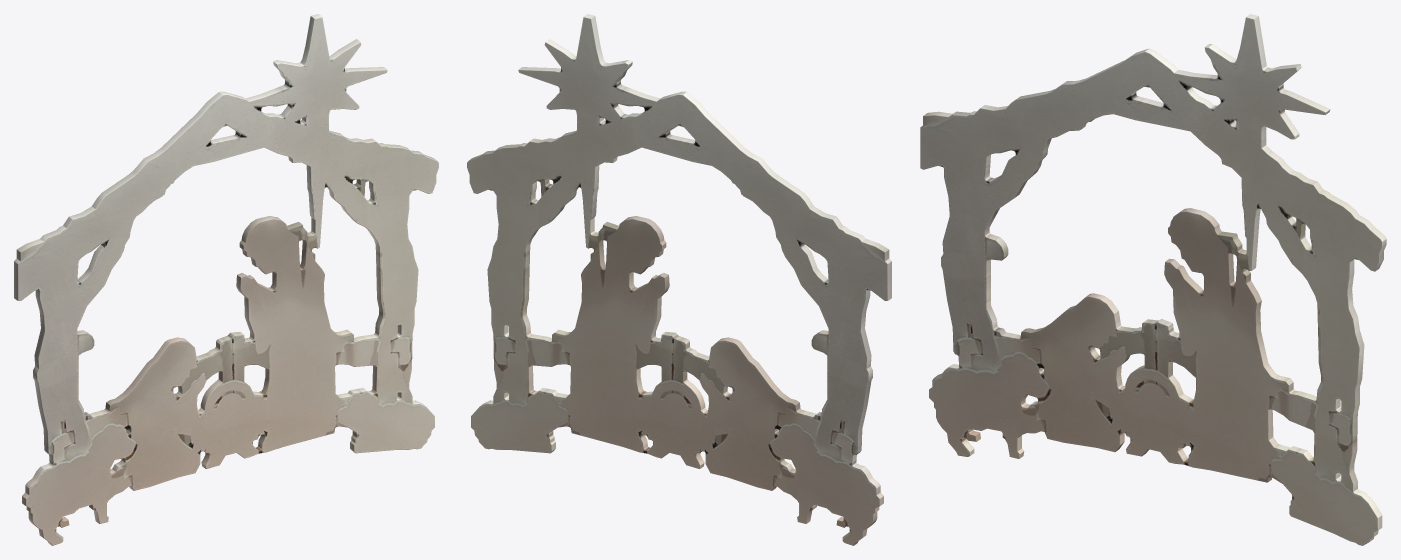
Rendered from nativity.glb.
3 views of the same model, side by side, from view 1: azimuth 30°, elevation 25°; view 2: azimuth 150°, elevation 25°; view 3: azimuth 330°, elevation 25° (orthographic). The views are drawn at different scales.
Parts seen in each view (by area): view 1: Nativity yard display; view 2: Nativity yard display; view 3: Nativity yard display.
Part boxes in pixels (x1,y1,x2,y2): Nativity yard display: [14, 14, 438, 545]; Nativity yard display: [467, 14, 891, 545]; Nativity yard display: [920, 14, 1386, 545].
Size of the model in its own units: 1.23 by 1.29 by 0.0214.
1 material, 1 textured.
